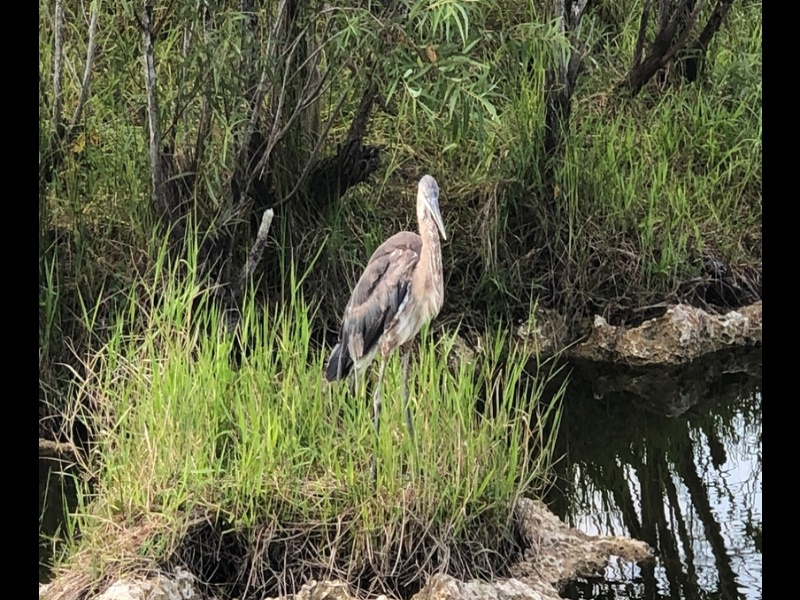heron: (323, 170, 453, 439)
